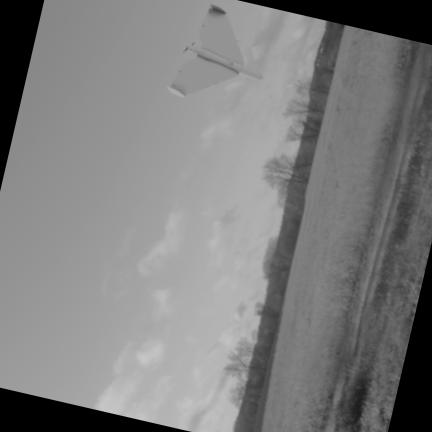Shahed: (168, 3, 261, 96)
